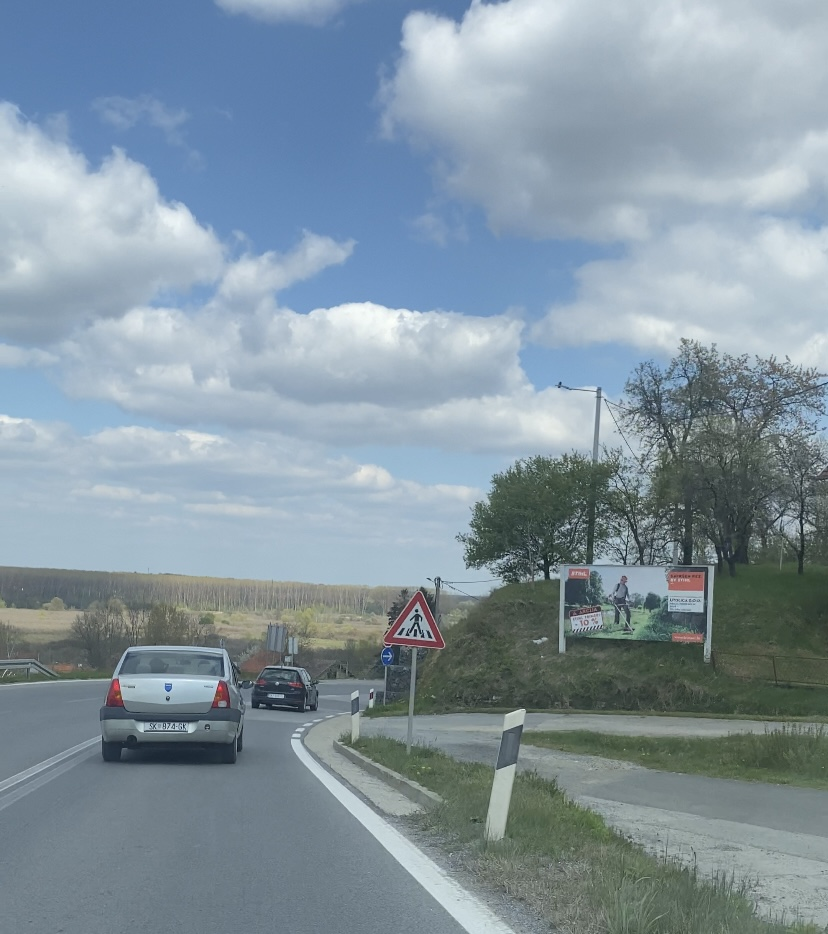Približavanje pješačkom prijelazu: (383, 591, 446, 649)
